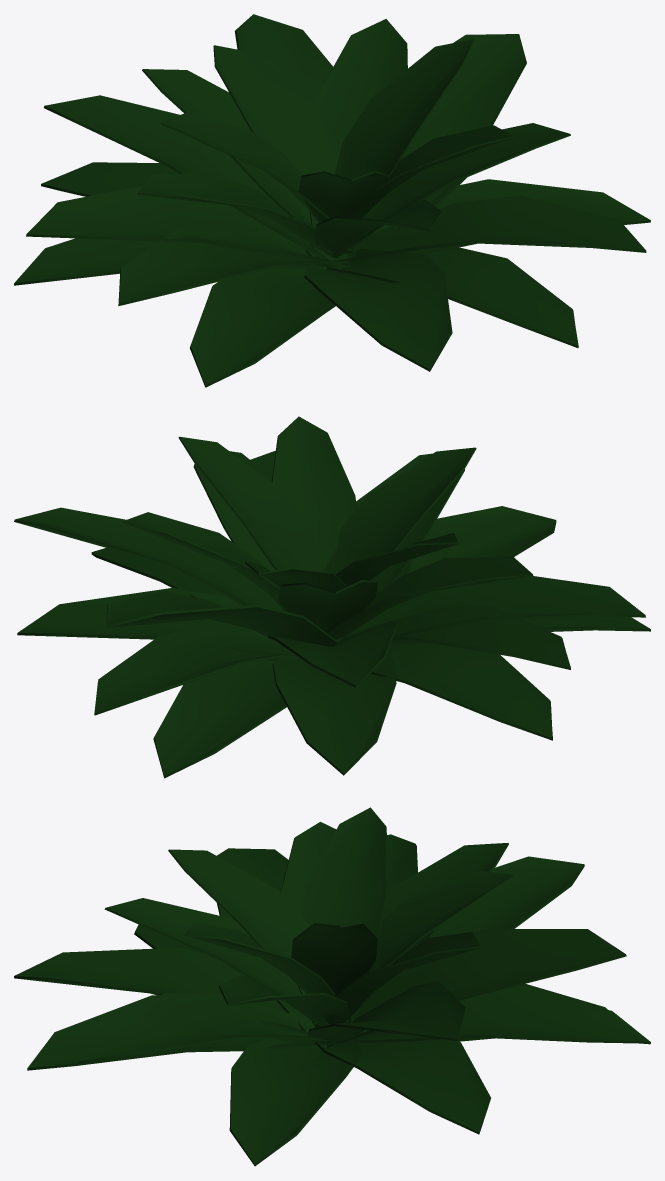
The model's file is Shrub.FBX.
3 renders of one model, top to bottom at view 1: azimuth 30°, elevation 25°; view 2: azimuth 150°, elevation 25°; view 3: azimuth 270°, elevation 25°, orthographic. The views are drawn at different scales.
Parts seen in each view (by area): view 1: Plane007, Plane010, Plane005, Plane019, Plane008, Plane024, Plane023, Plane004, Plane009, Plane011, Plane017, Plane015 (+10 smaller); view 2: Plane001, Plane006, Plane025, Plane013, Plane008, Plane024, Plane020, Plane022, Plane011, Plane019, Plane018, Plane007 (+11 smaller); view 3: Plane003, Plane018, Plane010, Plane002, Plane007, Plane013, Plane021, Plane020, Plane009, Plane011, Plane023, Plane012 (+10 smaller).
Part boxes in pixels (<box>): Plane007: <box>304,249,452,371</box>; Plane010: <box>336,195,646,266</box>; Plane005: <box>190,268,335,387</box>; Plane019: <box>26,185,344,266</box>; Plane008: <box>118,223,350,306</box>; Plane024: <box>335,39,474,179</box>; Plane023: <box>213,45,341,222</box>; Plane004: <box>325,247,578,347</box>; Plane009: <box>44,95,329,260</box>; Plane011: <box>330,34,526,260</box>; Plane017: <box>309,19,407,253</box>; Plane015: <box>330,123,570,257</box>; Plane001: <box>153,660,331,778</box>; Plane006: <box>370,643,552,740</box>; Plane025: <box>272,652,396,775</box>; Plane013: <box>94,627,297,715</box>; Plane008: <box>339,576,645,640</box>; Plane024: <box>178,436,323,571</box>; Plane020: <box>324,447,476,573</box>; Plane022: <box>271,416,356,569</box>; Plane011: <box>14,507,317,644</box>; Plane019: <box>323,606,570,669</box>; Plane018: <box>106,590,338,645</box>; Plane007: <box>409,506,556,572</box>; Plane003: <box>229,1032,362,1166</box>; Plane018: <box>326,929,626,1048</box>; Plane010: <box>78,993,328,1063</box>; Plane002: <box>315,1031,490,1134</box>; Plane007: <box>14,947,308,1036</box>; Plane013: <box>357,983,636,1045</box>; Plane021: <box>301,807,386,938</box>; Plane020: <box>168,849,309,957</box>; Plane009: <box>359,856,584,1033</box>; Plane011: <box>308,981,467,1045</box>; Plane023: <box>368,871,515,972</box>; Plane012: <box>104,898,329,1025</box>.
Bounding box in the file's own units: 282 × 101 × 289.
